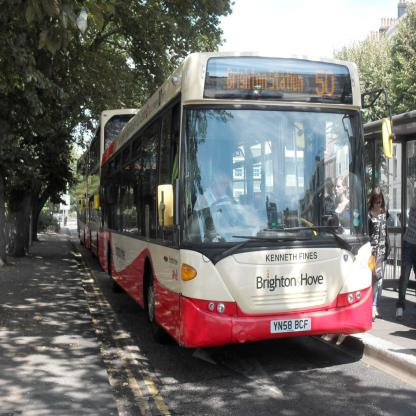Bus: (97, 53, 394, 348), (88, 105, 145, 258), (78, 149, 90, 249)
